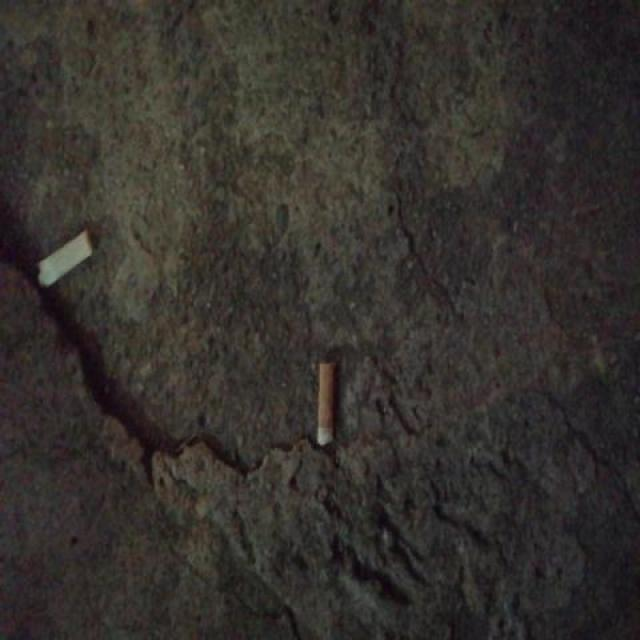non-organic waste: (34, 225, 98, 291), (311, 354, 341, 450)
